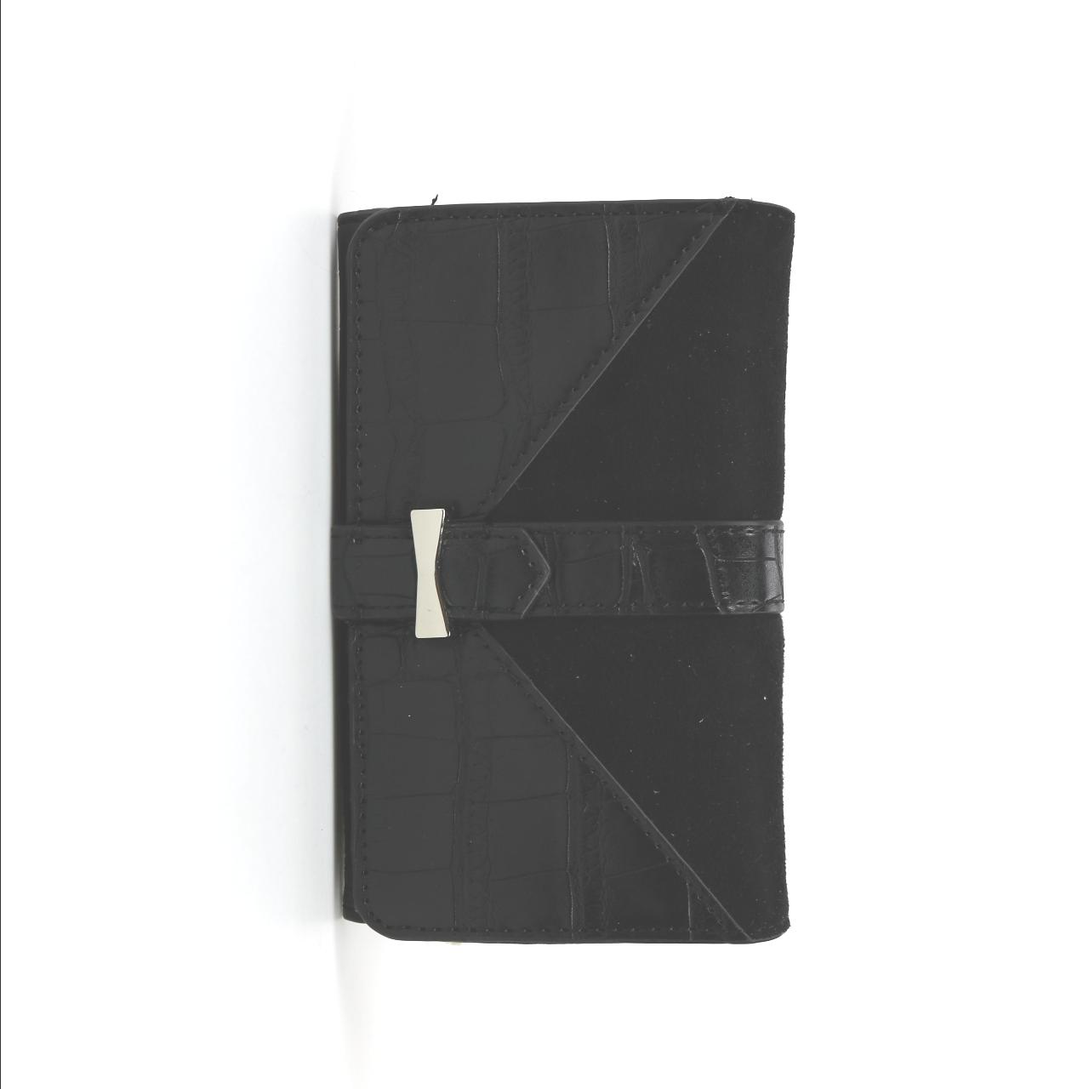wallet: (292, 182, 821, 1052)
